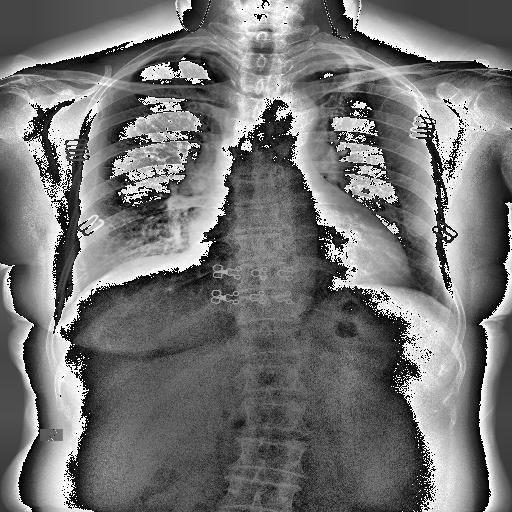11- Pleural thickening: (294, 52, 380, 76), (296, 50, 376, 72), (158, 45, 226, 56), (163, 46, 230, 54)
3- Cardiomegaly: (182, 195, 412, 286), (188, 200, 410, 287), (187, 227, 413, 286)
